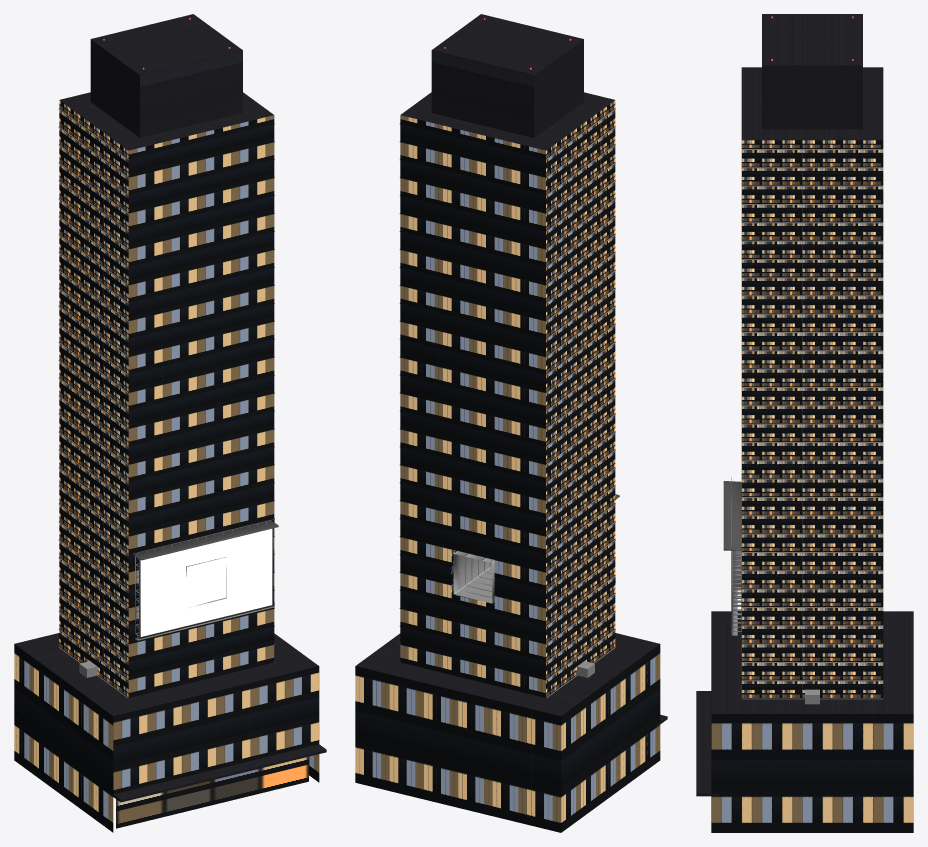
The model's file is hero-tower.glb.
3 renders of one model, left to right at view 1: azimuth 30°, elevation 25°; view 2: azimuth 150°, elevation 25°; view 3: azimuth 270°, elevation 25°, orthographic. The views are drawn at different scales.
Visible parts, largest first — view 1: HERO_TOWER, LED_SCREEN, LED_FRAME; view 2: HERO_TOWER, LED_CORRIDOR; view 3: HERO_TOWER, LED_FRAME.
Part boxes in pixels (x1,y1,x2,y2): HERO_TOWER: (14,14,326,832); LED_SCREEN: (140,528,272,636); LED_FRAME: (133,519,278,640); HERO_TOWER: (355,14,667,832); LED_CORRIDOR: (453,551,494,603); HERO_TOWER: (696,14,913,832); LED_FRAME: (723,477,741,635).
Bounding box in the file's own units: 94.74 × 320 × 84.87.
8 materials, 2 textured.
